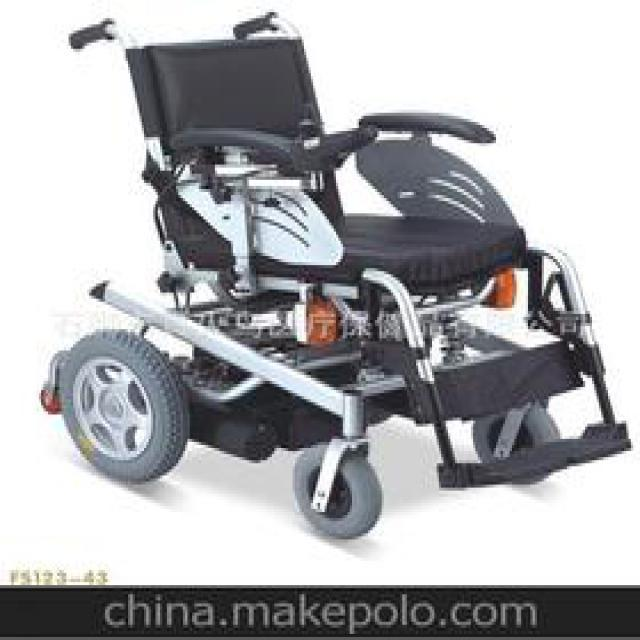wheelchair: (48, 6, 633, 549)
